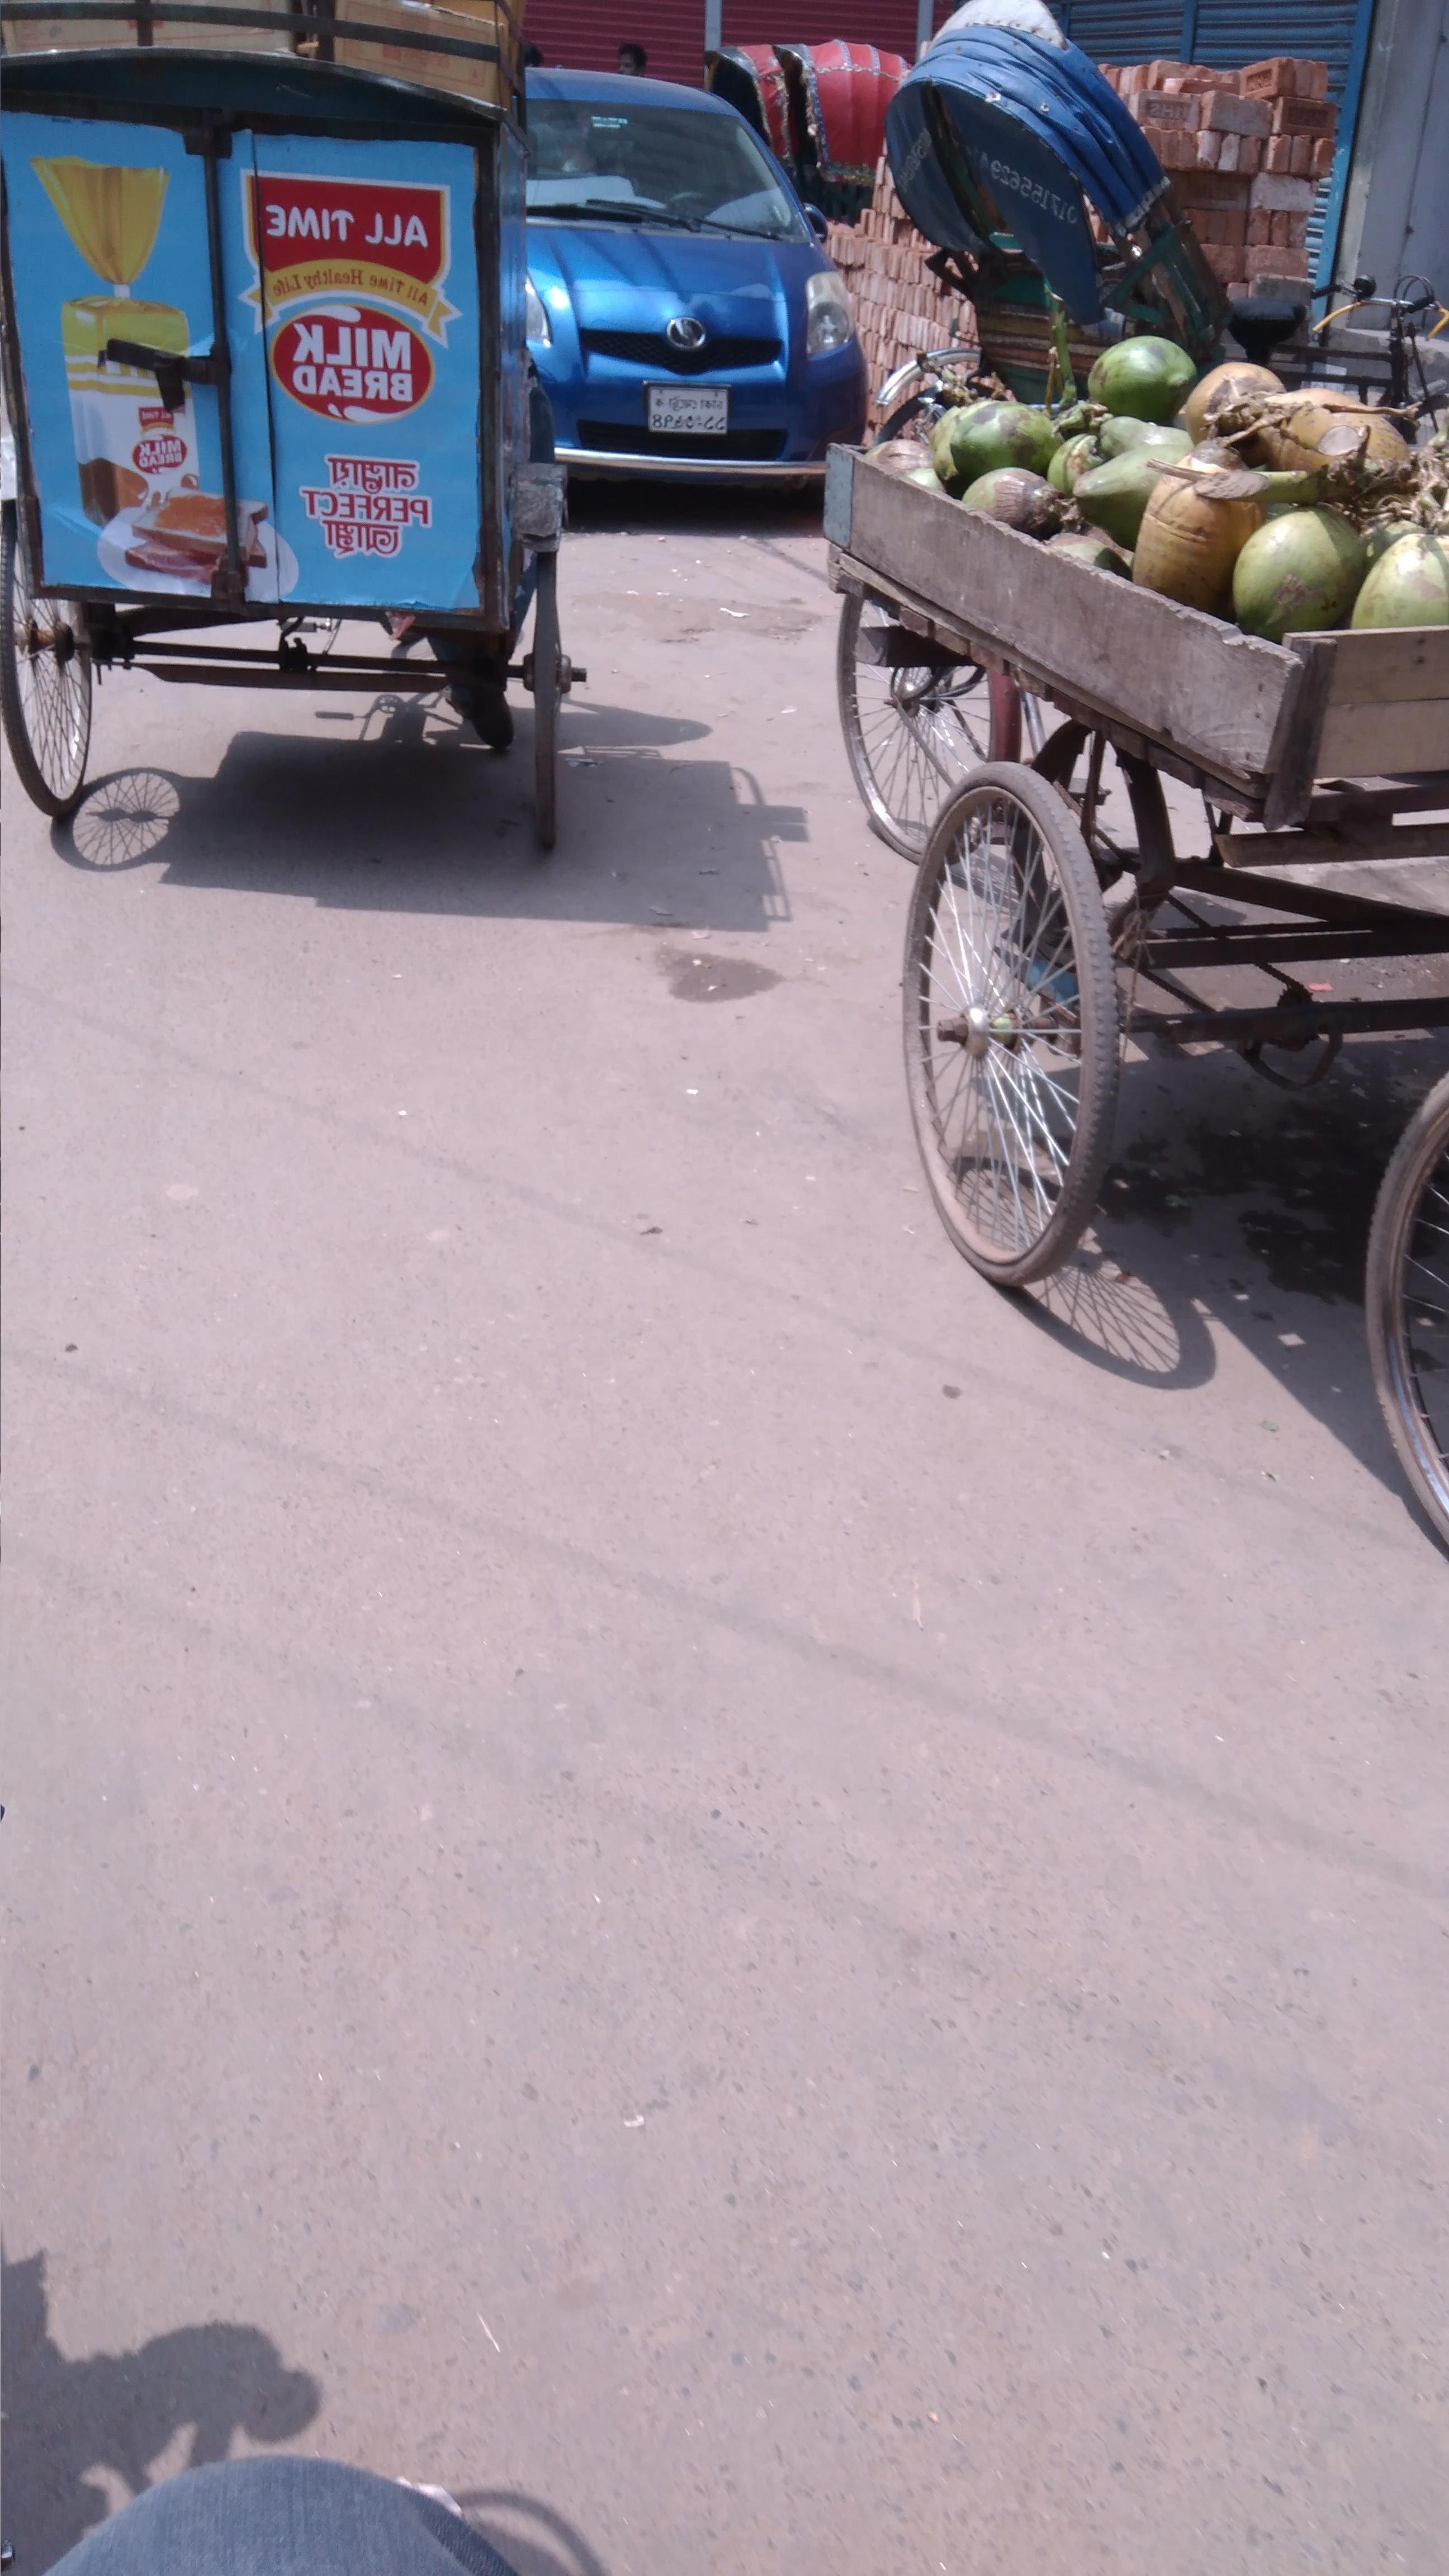Rickshaw: (860, 5, 1421, 508), (759, 11, 934, 200)
